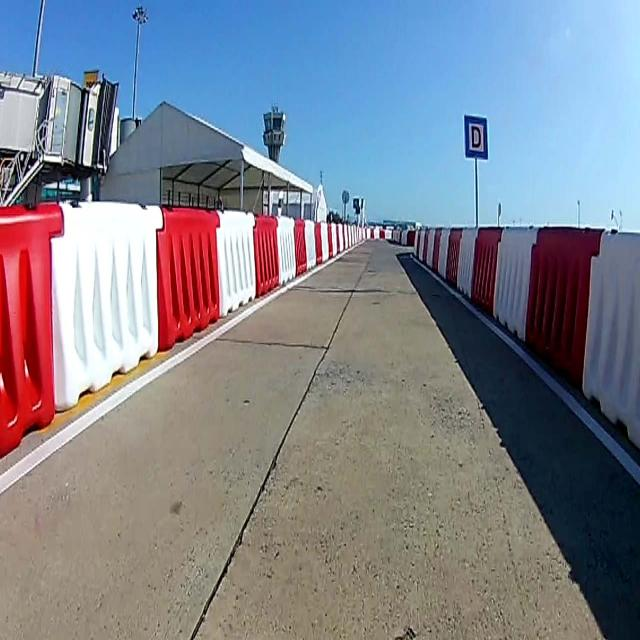durak: (465, 114, 489, 164)
